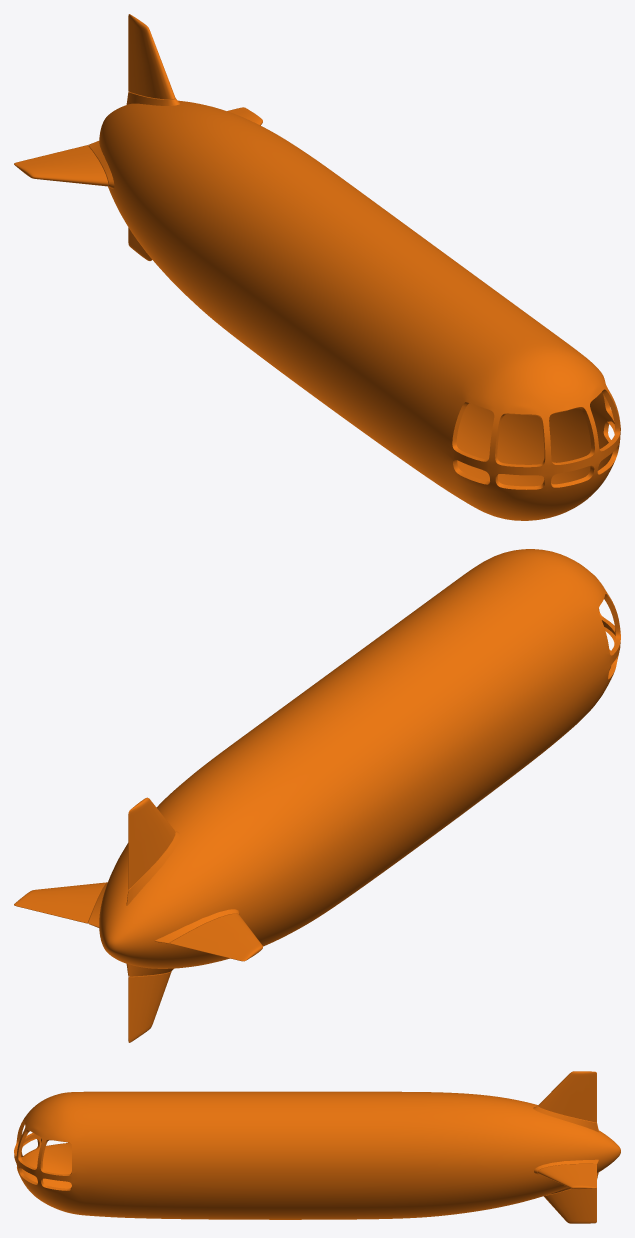
Rendered from subplaceholder.fbx.
The picture shows the model from 3 angles, top to bottom: view 1: azimuth 30°, elevation 25°; view 2: azimuth 150°, elevation 25°; view 3: azimuth 270°, elevation 25°; orthographic projection. The views are drawn at different scales.
Parts seen in each view (by area): view 1: Cube.001; view 2: Cube.001; view 3: Cube.001.
Part boxes in pixels (<box>): Cube.001: <box>14,14,620,520</box>; Cube.001: <box>14,549,620,1042</box>; Cube.001: <box>14,1071,620,1223</box>.
Bounding box in the file's own units: 227 × 218 × 789.
